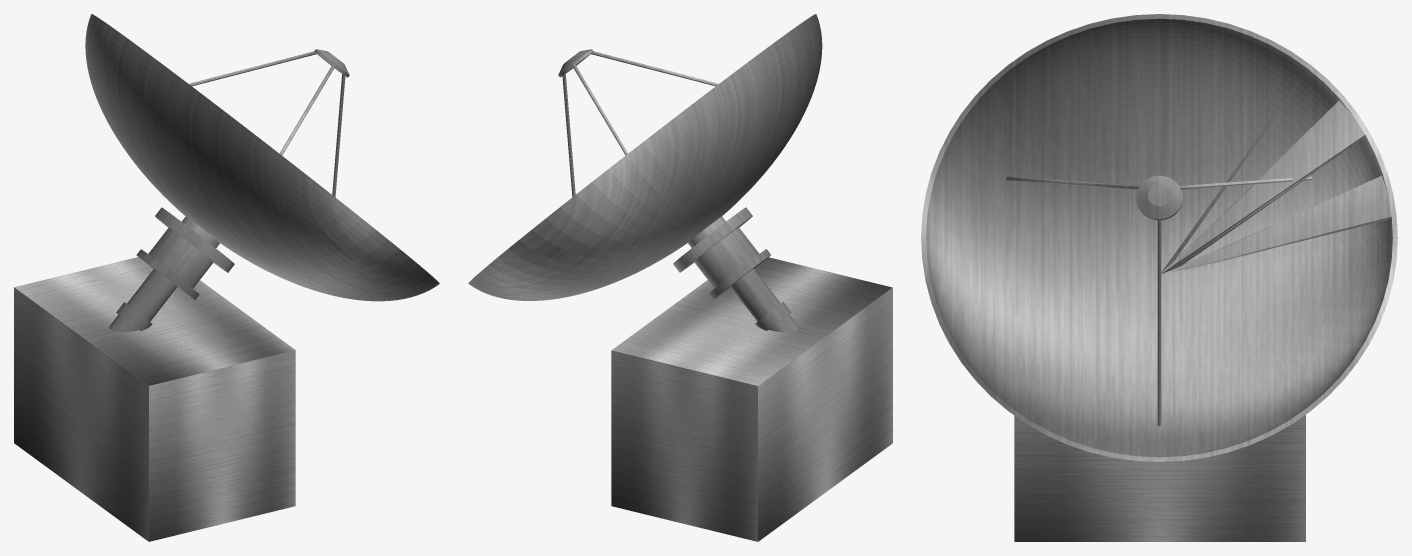
File: Radar.FBX
The picture shows the model from 3 angles, left to right: view 1: azimuth 30°, elevation 25°; view 2: azimuth 150°, elevation 25°; view 3: azimuth 270°, elevation 25°; orthographic projection. The views are drawn at different scales.
Visible parts, largest first — view 1: Box001, default; view 2: Box001, default; view 3: default, Box001.
Boxes of the visible parts, x1,y1,x2,y2 form: Box001: [14, 257, 295, 541]; default: [85, 14, 439, 332]; Box001: [611, 257, 892, 541]; default: [468, 14, 822, 331]; default: [921, 14, 1397, 462]; Box001: [1014, 415, 1305, 541].
Size of the model in its own units: 6.43 by 8.49 by 7.7.
2 materials, 2 textured.
